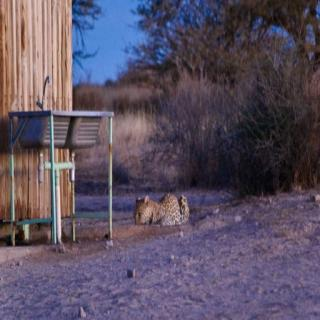Leopard: (144, 194, 200, 238)
